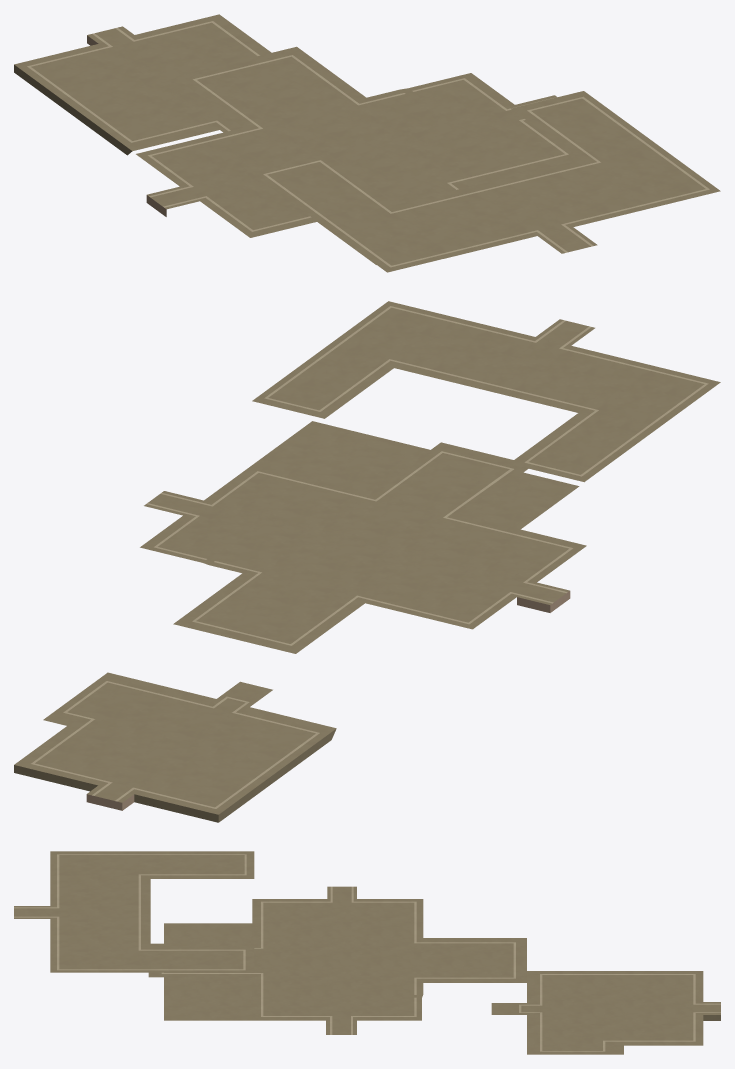
File: HallColliderMirr.fbx
3 views of the same model, one above another, from view 1: azimuth 30°, elevation 25°; view 2: azimuth 150°, elevation 25°; view 3: azimuth 270°, elevation 25° (orthographic). The views are drawn at different scales.
Parts seen in each view (by area): view 1: MainRoom Floor; view 2: MainRoom Floor; view 3: MainRoom Floor.
Part boxes in pixels (bbox=[...]): MainRoom Floor: bbox=[14, 14, 720, 272]; MainRoom Floor: bbox=[14, 301, 720, 822]; MainRoom Floor: bbox=[14, 851, 720, 1054].
Bounding box in the file's own units: 7950 × 2550 × 16025.
